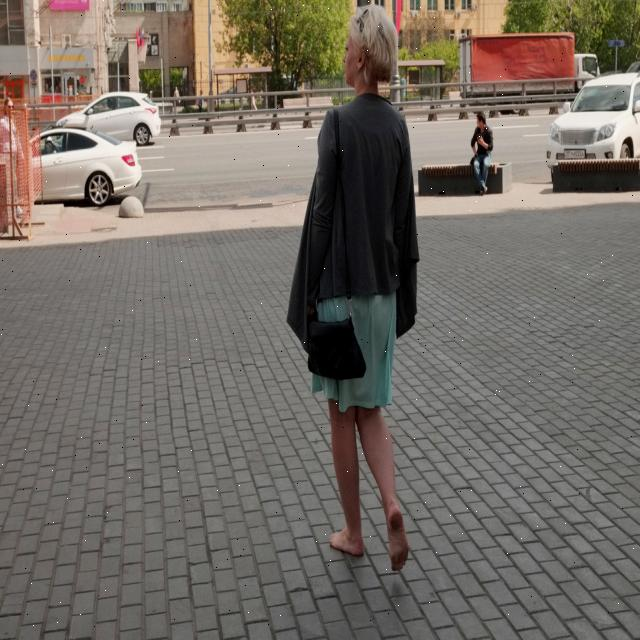No Safety Boots: (387, 505, 409, 571), (330, 526, 364, 556)
